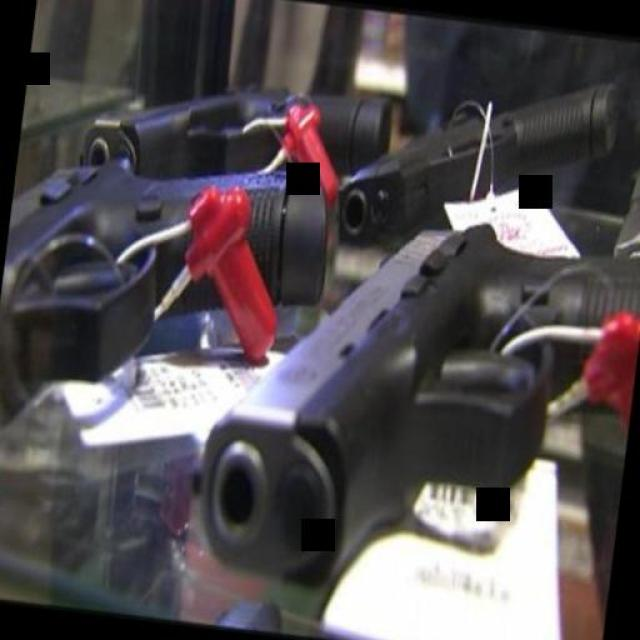gun: (166, 172, 640, 604)
